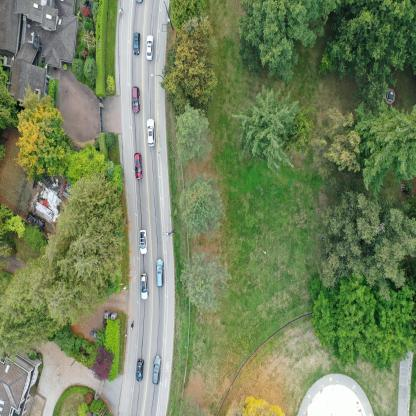Coniferous Tree: (43, 172, 113, 271), (61, 210, 130, 288), (243, 82, 298, 168), (325, 198, 379, 284), (170, 22, 222, 102), (0, 268, 60, 336), (367, 110, 416, 192), (183, 260, 236, 314), (384, 206, 416, 292), (174, 188, 226, 240), (326, 106, 360, 180), (182, 109, 217, 168), (48, 282, 110, 306), (83, 58, 98, 82), (71, 58, 83, 78)
Deciduous Tree: (306, 273, 416, 363), (326, 0, 416, 79), (233, 0, 315, 74), (18, 106, 75, 176), (234, 387, 293, 416), (94, 349, 114, 382)
